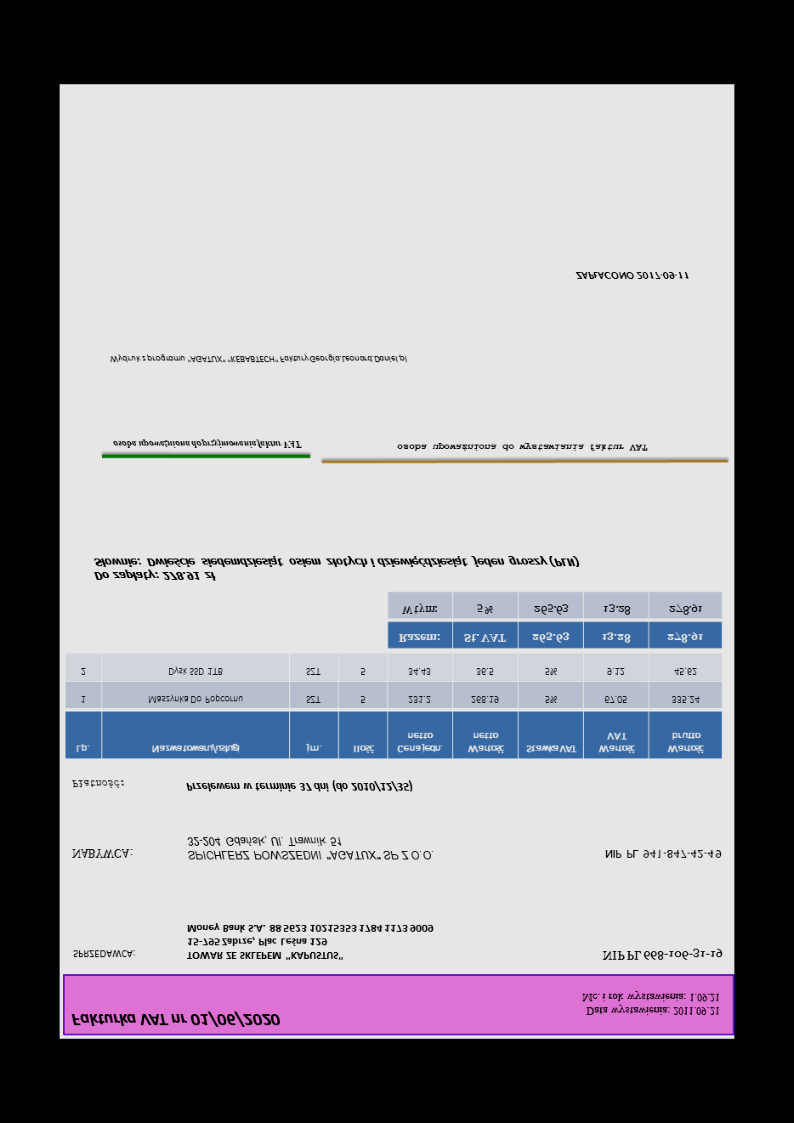Table: (64, 650, 723, 761), (387, 591, 723, 650)
TextBox: (92, 553, 581, 584), (184, 921, 434, 961), (184, 834, 437, 864), (578, 989, 721, 1020), (70, 1009, 281, 1029), (109, 352, 409, 366), (184, 778, 413, 794), (395, 441, 649, 454), (111, 437, 303, 451), (599, 945, 723, 963), (604, 847, 723, 860), (574, 270, 690, 283), (71, 947, 136, 961), (70, 847, 134, 861), (71, 778, 125, 791)
